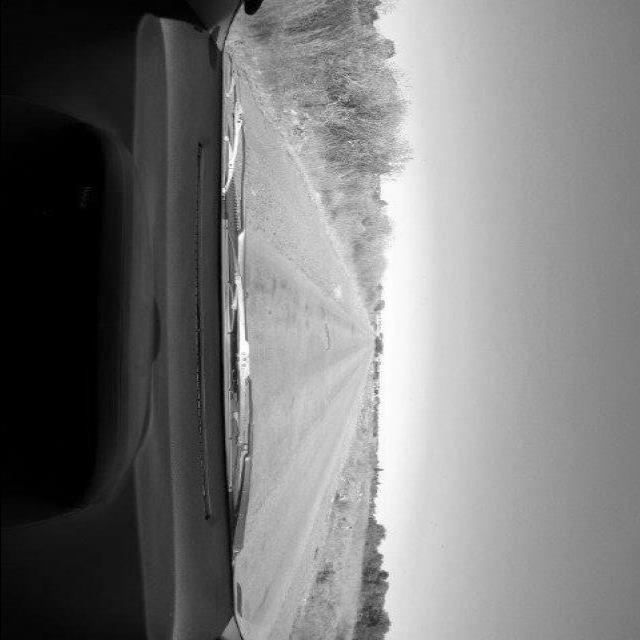lubang: (324, 323, 332, 352)
